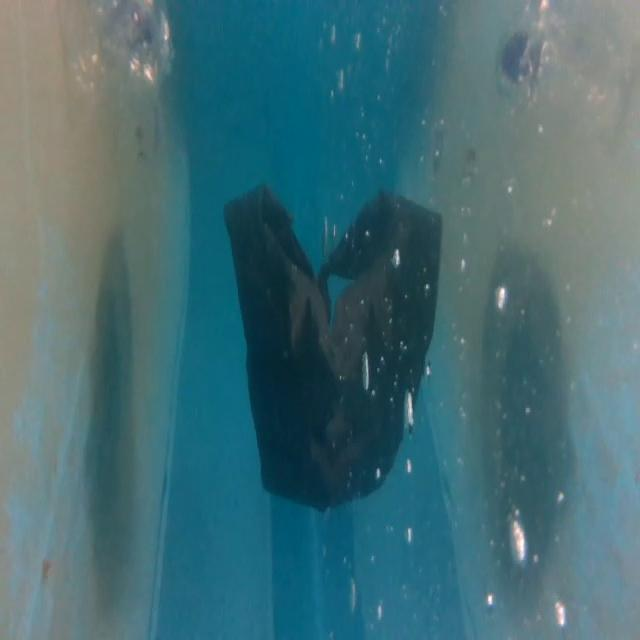plastic bags: (221, 180, 448, 514)
